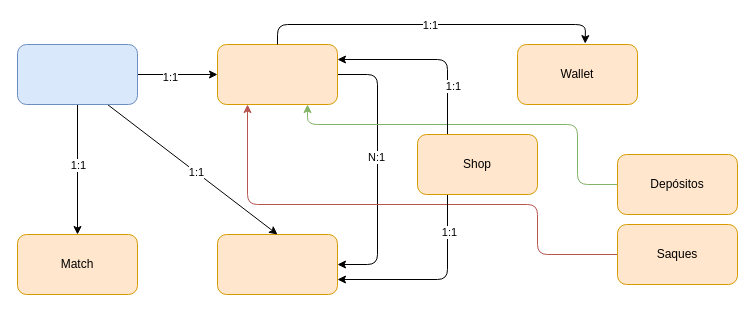
The diagram is 755 pixels wide and 312 high, and some of its shapes have lost their labels. Each missing label, with the centre of its shape:
"Bots" goes at point 277,264.
"N:N - UserMatch" goes at point 77,74.
"User" goes at point 277,74.
